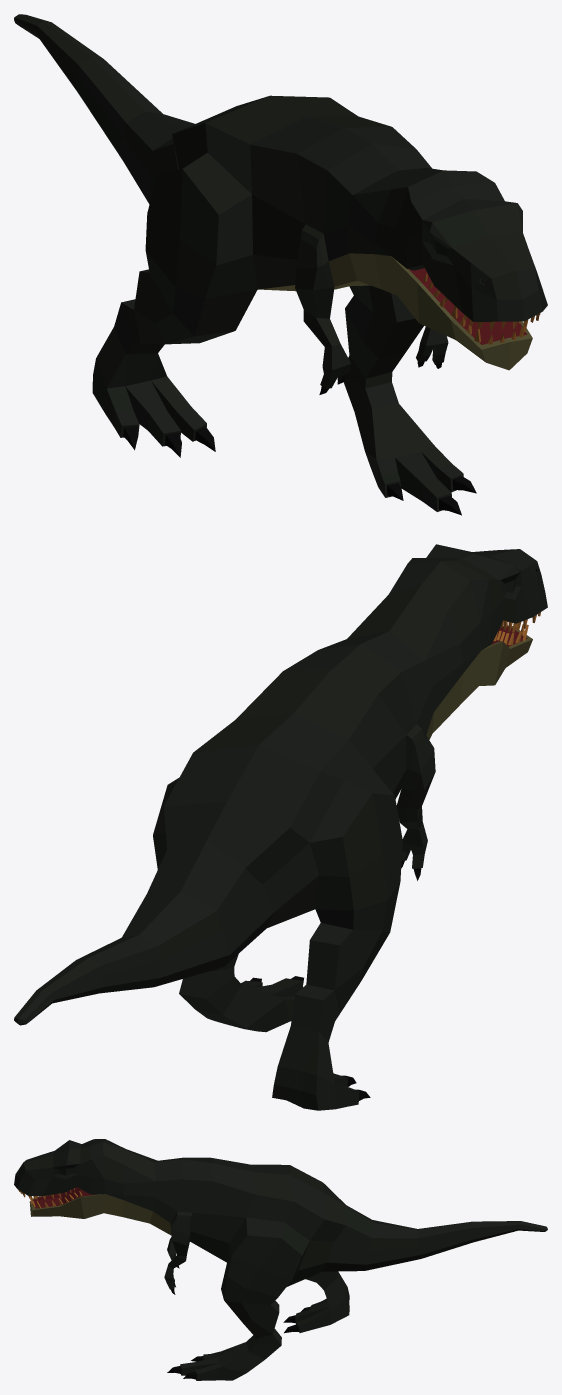
The model's file is Trex_000003.obj.
The picture shows the model from 3 angles, top to bottom: view 1: azimuth 30°, elevation 25°; view 2: azimuth 150°, elevation 25°; view 3: azimuth 270°, elevation 25°; orthographic projection. The views are drawn at different scales.
Parts seen in each view (by area): view 1: Trex_Cylinder; view 2: Trex_Cylinder; view 3: Trex_Cylinder.
Part boxes in pixels (x1=…): Trex_Cylinder: x1=14, y1=14, x2=547, y2=515; Trex_Cylinder: x1=14, y1=544, x2=547, y2=1110; Trex_Cylinder: x1=14, y1=1139, x2=547, y2=1380.
Size of the model in its own units: 8.1 by 13.65 by 31.1.
